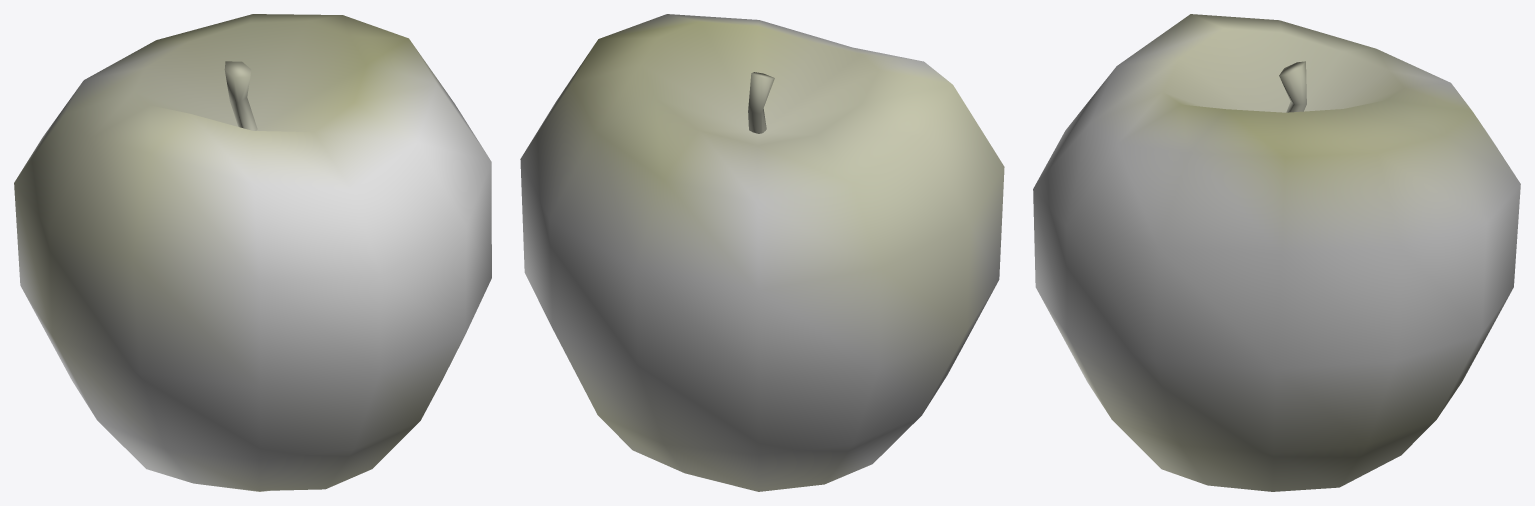
The model's file is red_apple.glb.
The picture shows the model from 3 angles, left to right: view 1: azimuth 30°, elevation 25°; view 2: azimuth 150°, elevation 25°; view 3: azimuth 270°, elevation 25°; orthographic projection.
Visible parts, largest first — view 1: RedApple; view 2: RedApple; view 3: RedApple.
Part boxes in pixels (x1,y1,x2,y2): RedApple: [14, 14, 491, 491]; RedApple: [520, 14, 1004, 491]; RedApple: [1033, 14, 1520, 491].
Bounding box in the file's own units: 0.1389 × 0.1299 × 0.1438.
